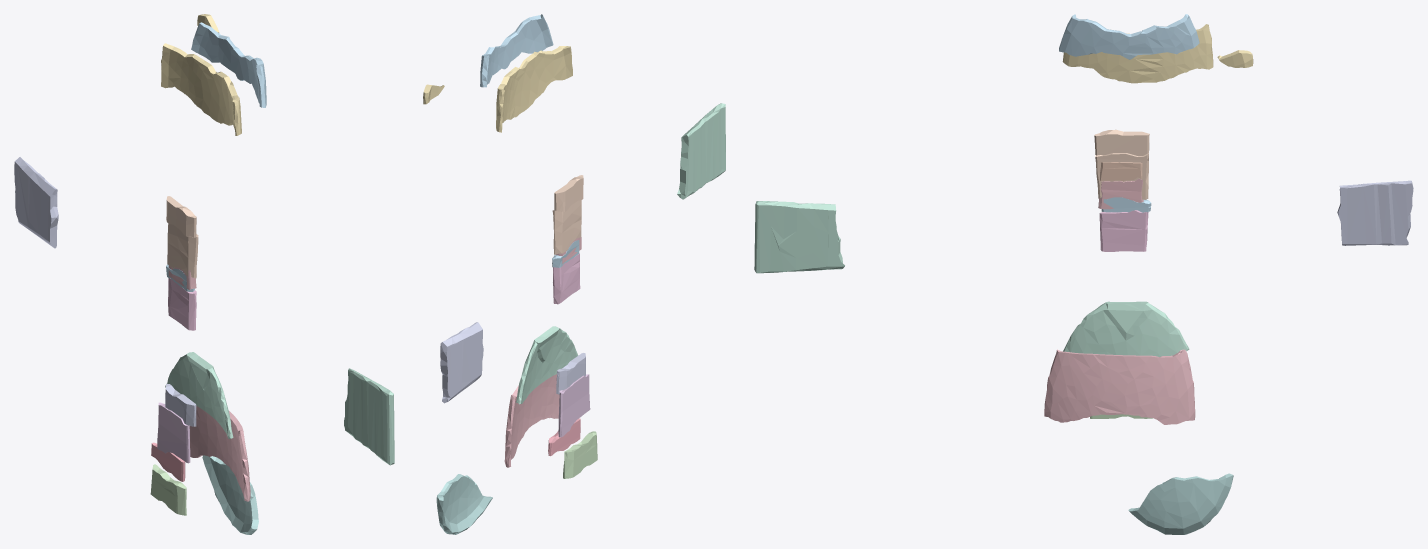
Rendered from view_input_colored.glb.
3 views of the same model, side by side, from view 1: azimuth 30°, elevation 25°; view 2: azimuth 150°, elevation 25°; view 3: azimuth 270°, elevation 25° (orthographic). The views are drawn at different scales.
Visible parts, largest first — view 1: world; view 2: world; view 3: world.
Boxes of the visible parts, <box> form: world: <box>14,14,394,534</box>; world: <box>423,14,725,534</box>; world: <box>754,14,1413,534</box>.
Bounding box in the file's own units: 0.2284 × 0.9907 × 1.17.
